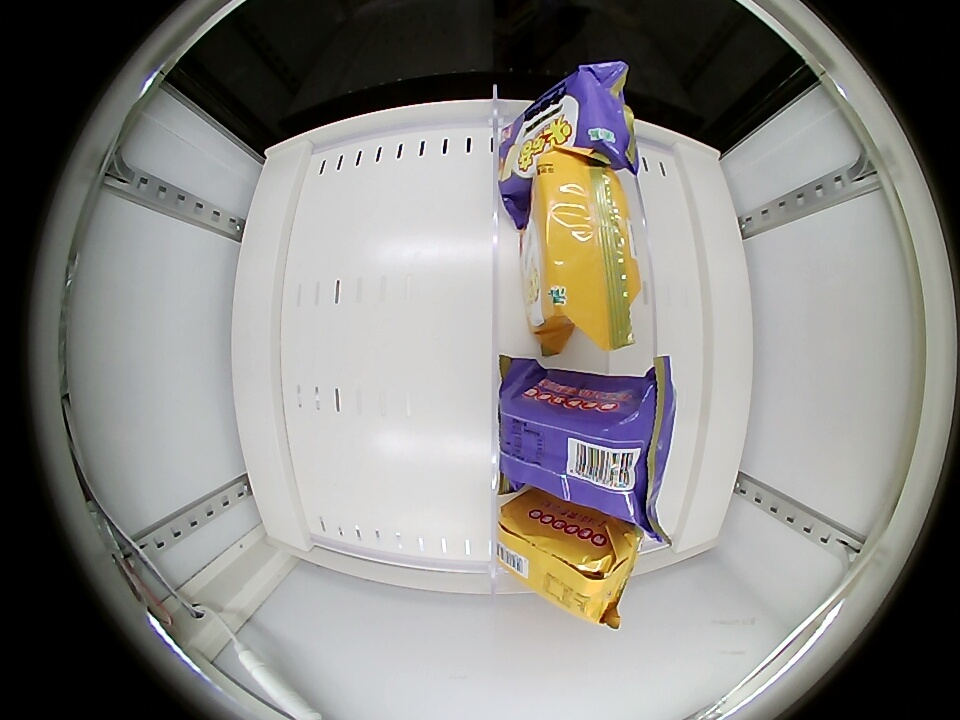kaomo_gali: (523, 155, 641, 350), (497, 491, 643, 624)
kaomo_jiaoyan: (497, 365, 672, 523), (495, 65, 636, 202)
